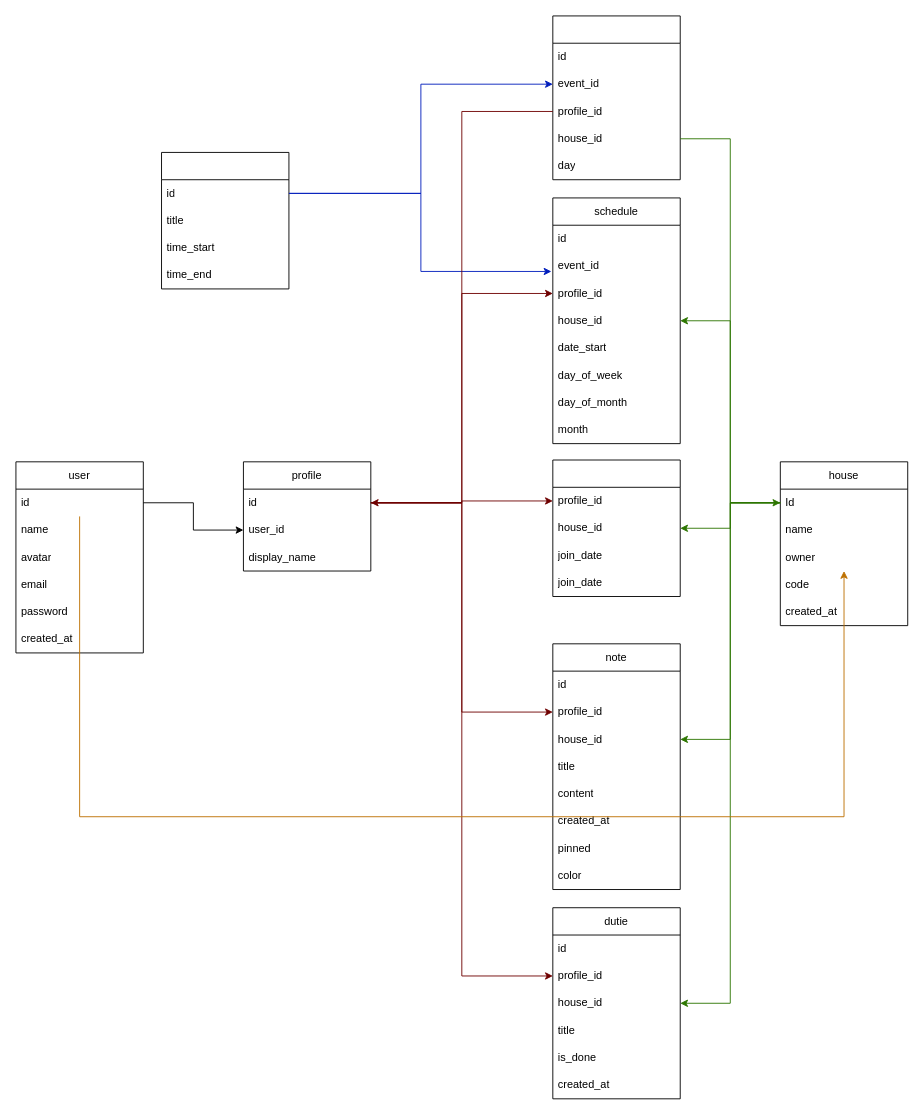
This 924x1115 diagram has some shape labels left out. Each missing label, with the box of its shape:
calendar: (552, 15, 680, 180)
event: (161, 152, 289, 289)
user_house: (552, 459, 680, 597)
